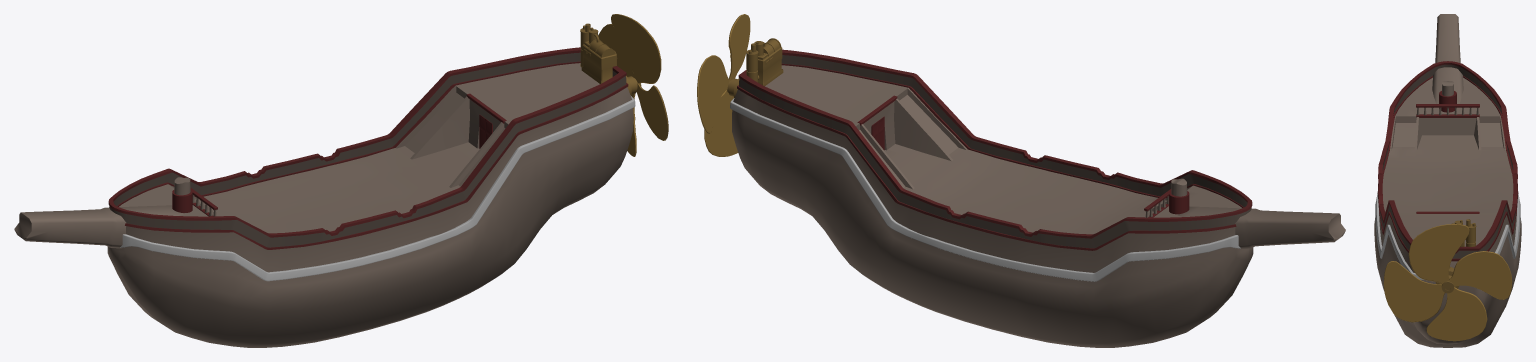
Rendered from Broken_Ship_2.fbx.
3 views of the same model, side by side, from view 1: azimuth 30°, elevation 25°; view 2: azimuth 150°, elevation 25°; view 3: azimuth 270°, elevation 25° (orthographic). The views are drawn at different scales.
Visible parts, largest first — view 1: Broken_Ship_2; view 2: Broken_Ship_2; view 3: Broken_Ship_2.
Boxes of the visible parts, x1,y1,x2,y2 form: Broken_Ship_2: [14, 14, 668, 347]; Broken_Ship_2: [697, 14, 1345, 347]; Broken_Ship_2: [1374, 14, 1521, 347].
Size of the model in its own units: 18.41 by 6.68 by 4.38.
